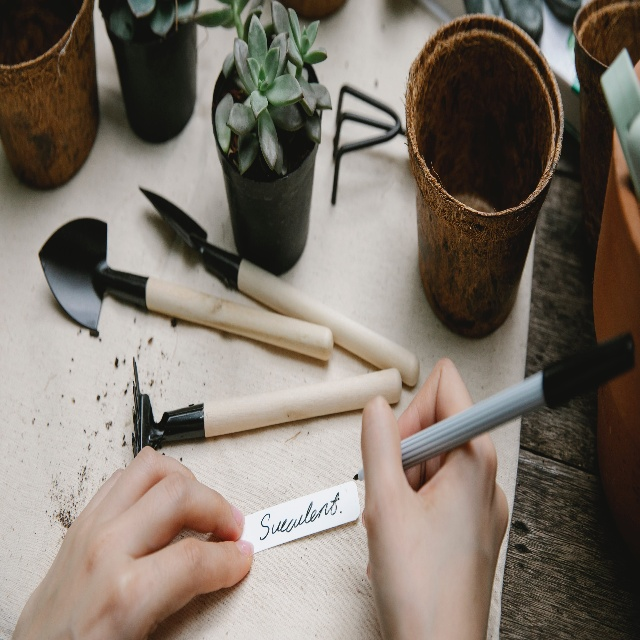Sin_guantes: (8, 445, 255, 640), (362, 357, 510, 640)
